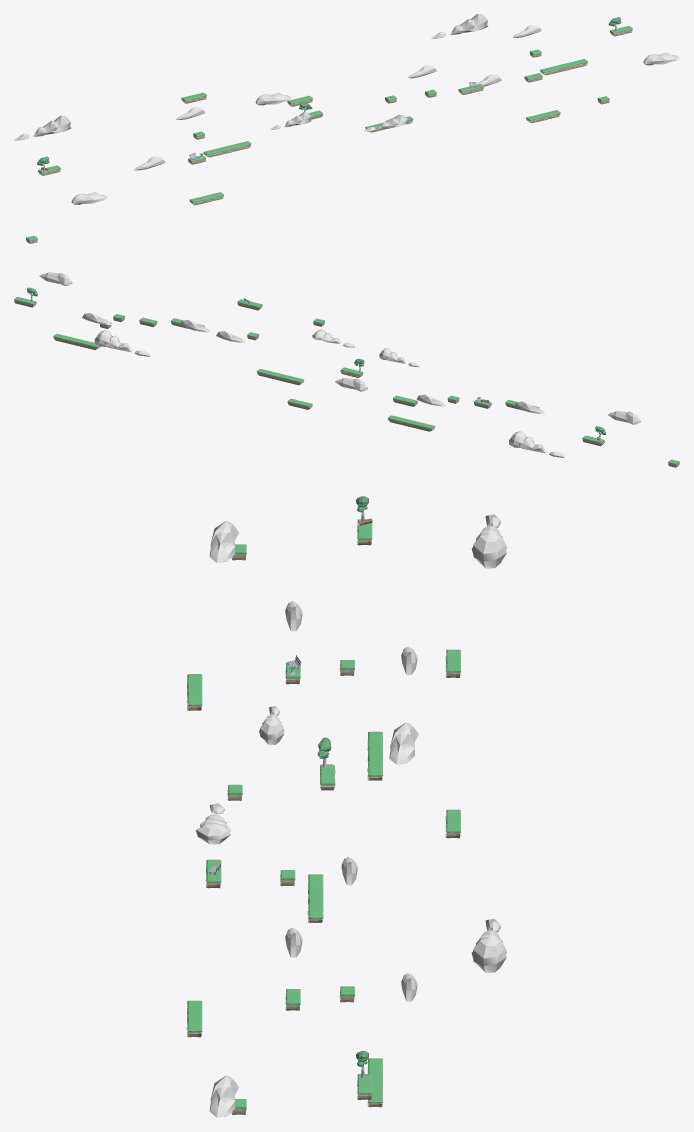
Rendered from Park_Achtergrond_3D.fbx.
3 renders of one model, top to bottom at view 1: azimuth 30°, elevation 25°; view 2: azimuth 150°, elevation 25°; view 3: azimuth 270°, elevation 25°, orthographic. The views are drawn at different scales.
Visible parts, largest first — view 1: pointLight3; view 2: pointLight3; view 3: pointLight3.
Part boxes in pixels (x1,y1,x2,y2): pointLight3: (14,14,679,243); pointLight3: (14,272,679,467); pointLight3: (186,496,507,1117).
Size of the model in its own units: 750 by 64.4 by 162.
